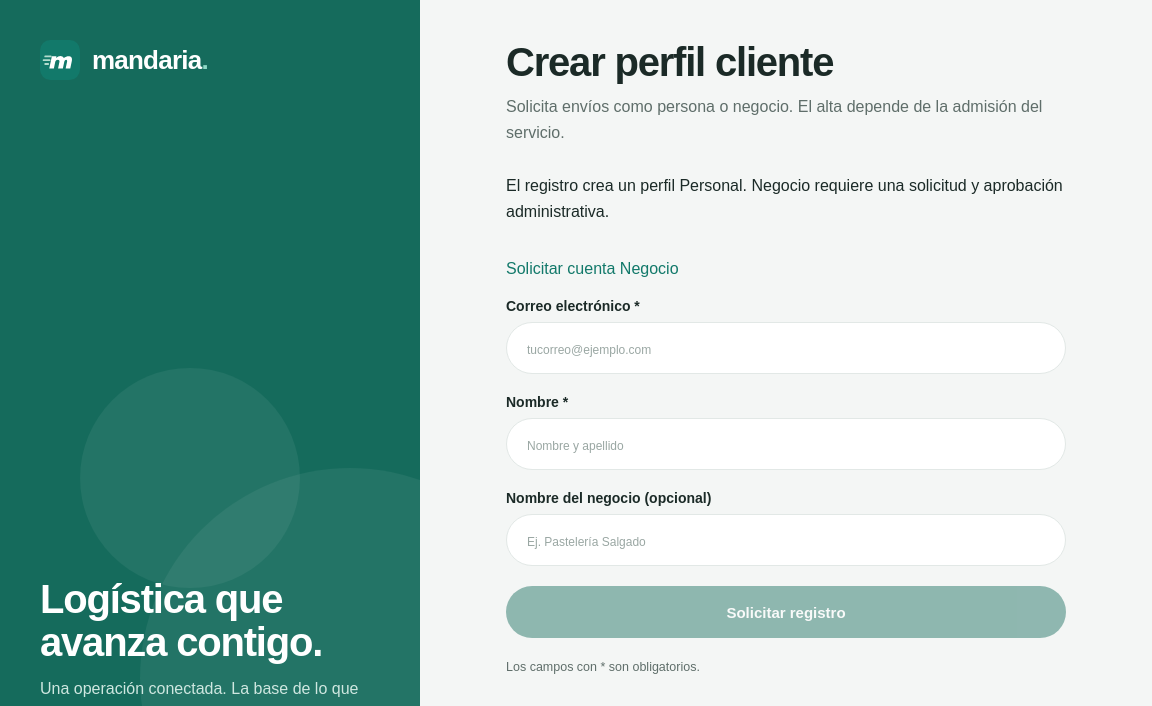
it: sends exact normalized DTO without phone, no automatic retry and focuses generic acknowledgement
Type " Person@Example.test " into the field labelled "Correo electrónico *" at (786, 348), box top-left (506, 322), bottom-right (1066, 374)
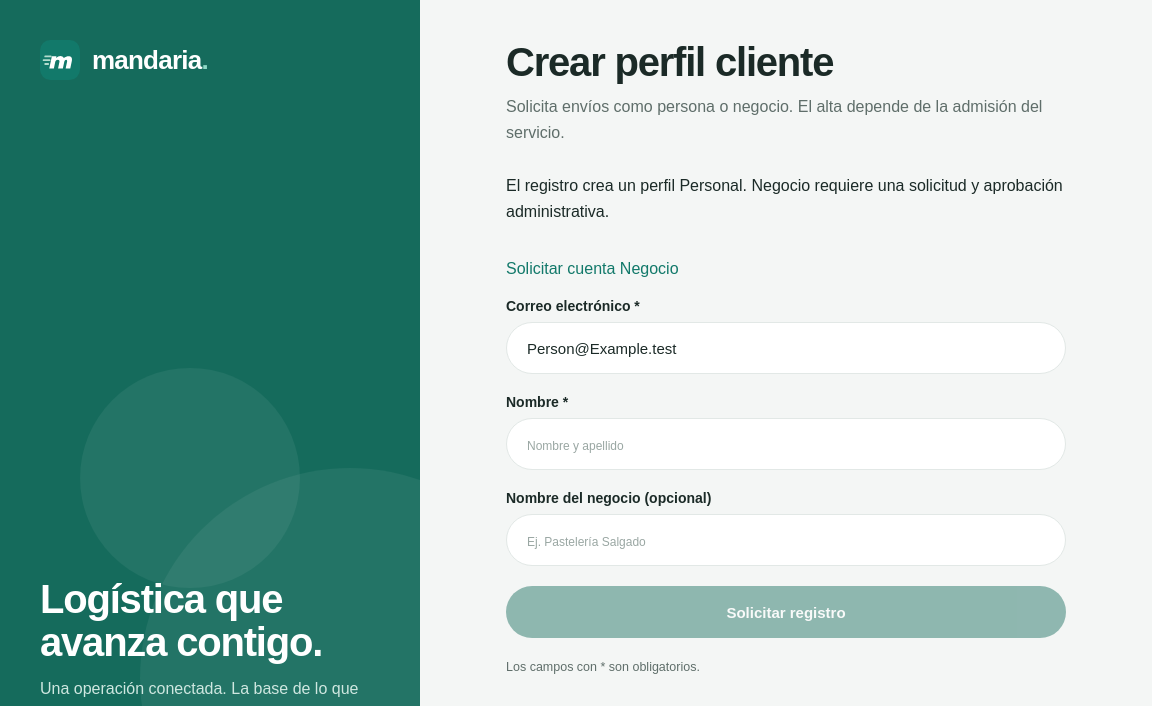
Type " Persona Sintética " into the field labelled "Nombre *" at (786, 444), box top-left (506, 418), bottom-right (1066, 470)
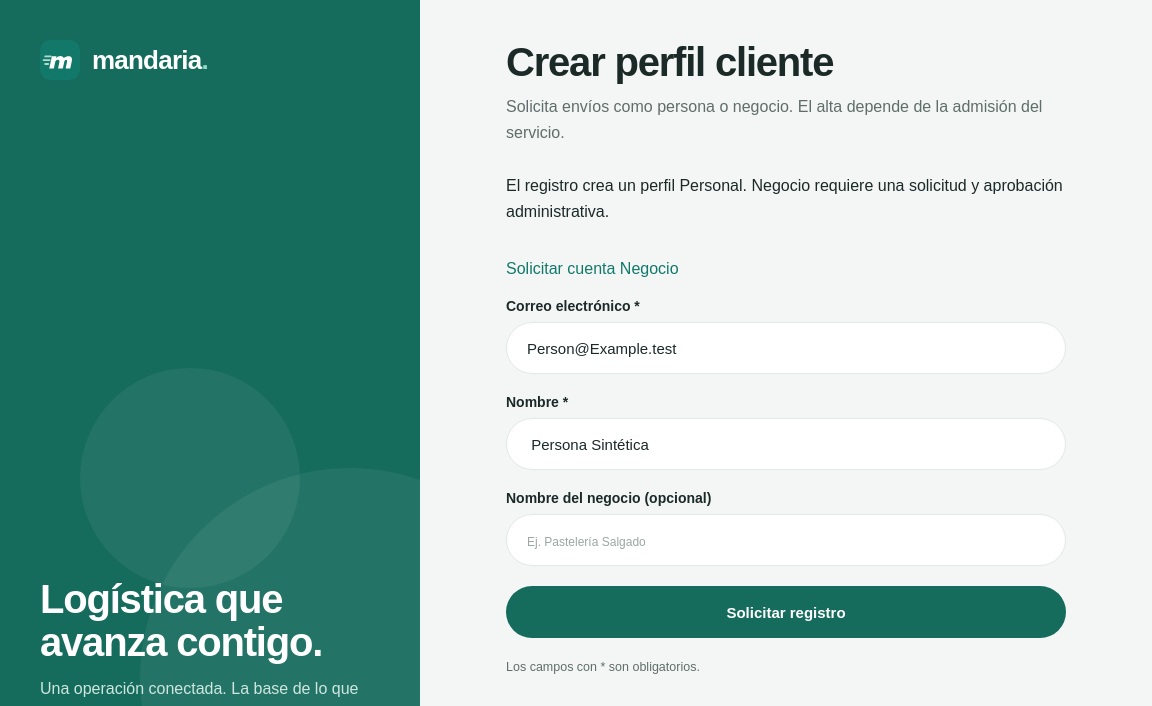
Click the button "Solicitar registro" at (786, 612), box top-left (506, 586), bottom-right (1066, 638)
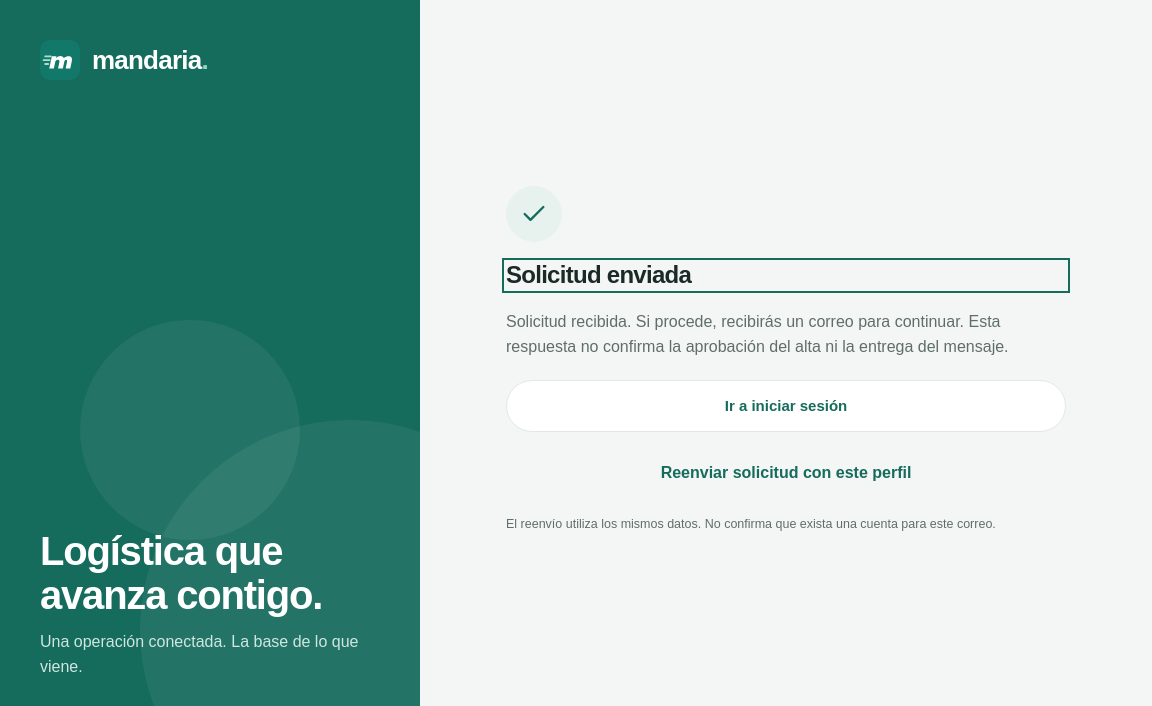
Check: the text "no confirma la aprobación" is shown, box top-left (506, 313), bottom-right (1008, 355)
